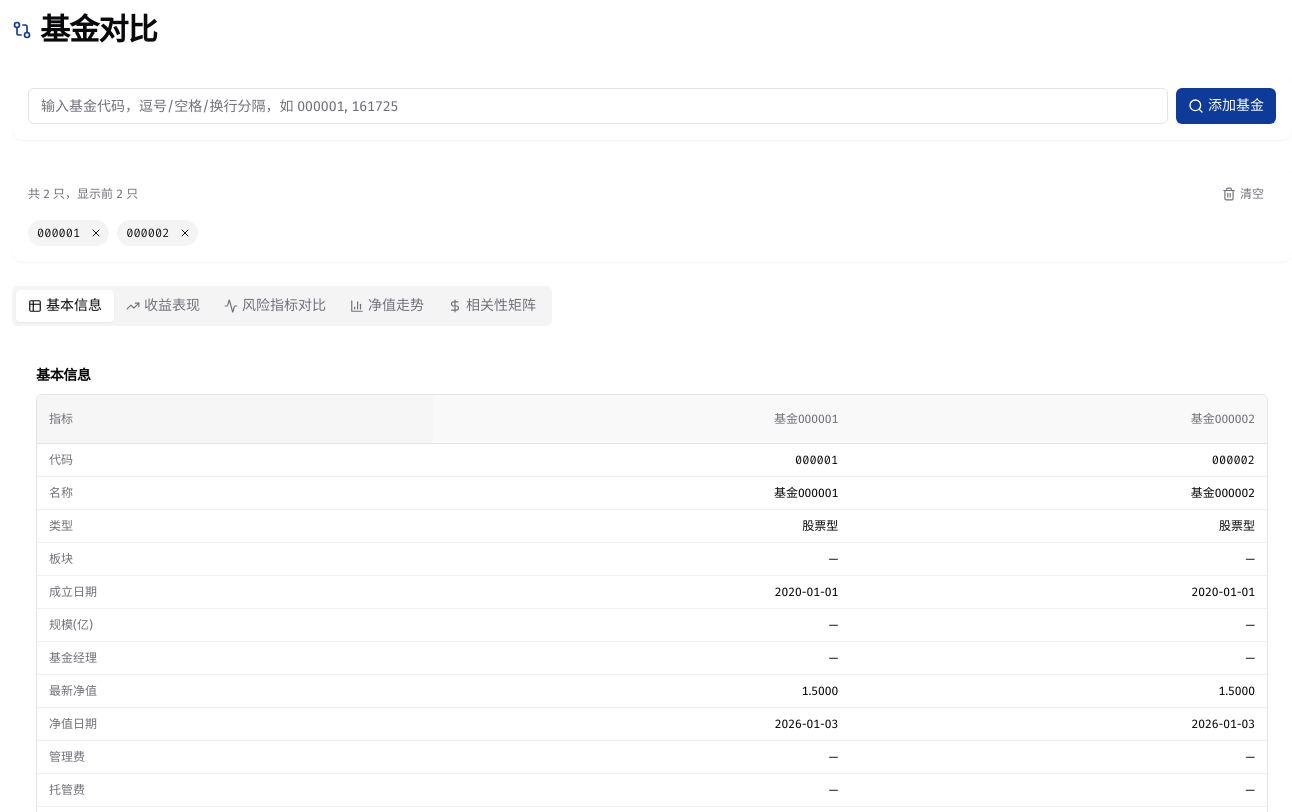
FundCompare › 风险表按指标区分格式：sharpe/calmar 原样 2 位小数，其余百分比
Press the mouse on the tab "风险指标对比": (275, 306) [212,290,338,322]
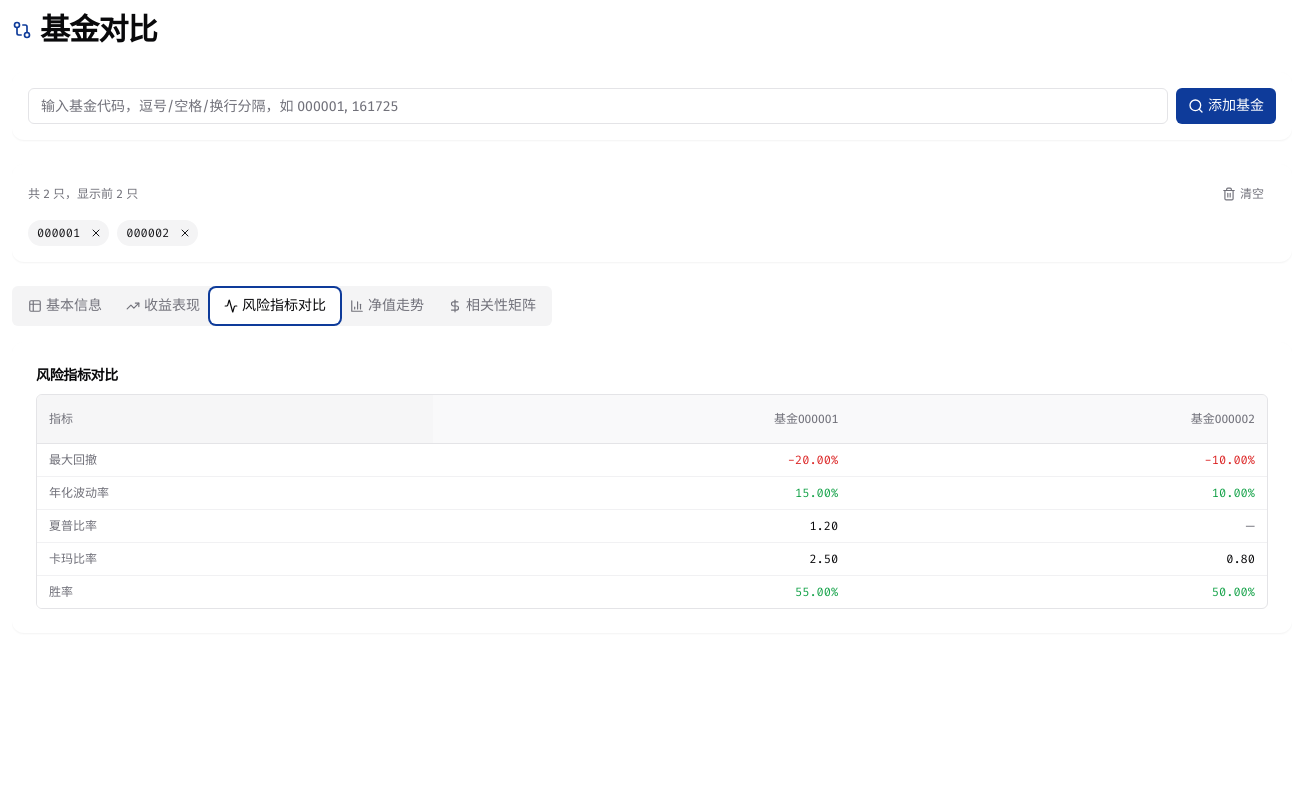
Now the text "1.20" is shown, box [809,518,838,534]
Now the text "2.50" is shown, box [809,550,838,566]
Now the text "0.80" is shown, box [1226,550,1255,566]
